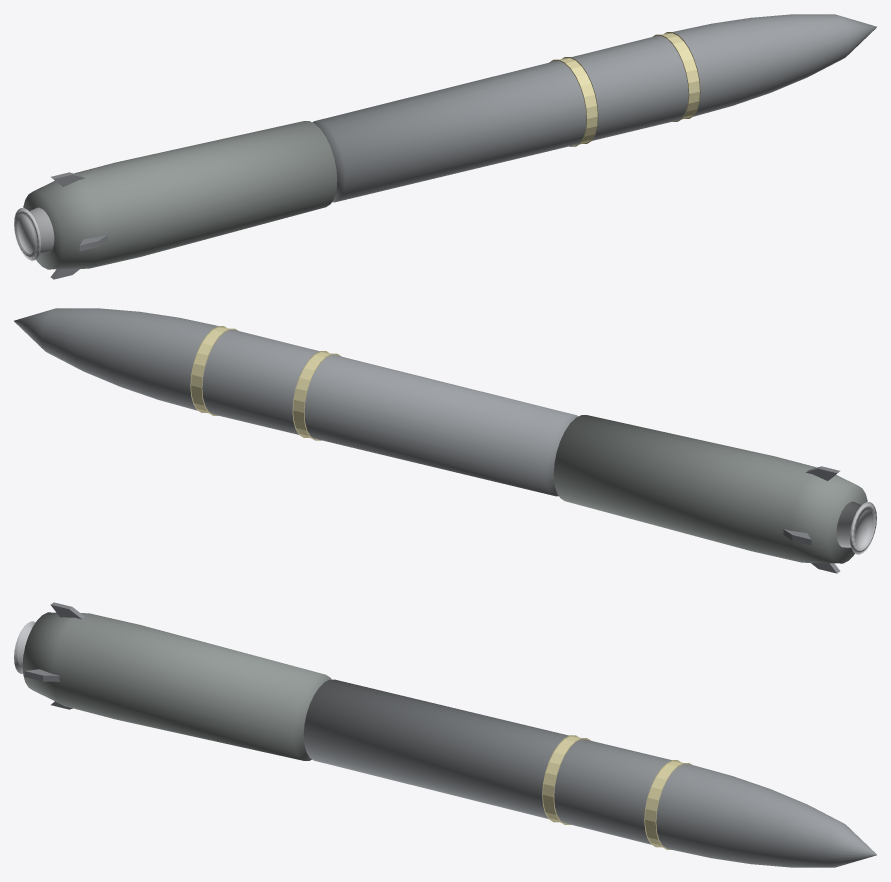
File: RU_ASW_Vyuga_LOD1.fbx
The picture shows the model from 3 angles, top to bottom: view 1: azimuth 30°, elevation 25°; view 2: azimuth 150°, elevation 25°; view 3: azimuth 330°, elevation 25°; orthographic projection.
Visible parts, largest first — view 1: WPN_RU_ASW_Vyuga_LOD1_Body, WPN_RU_ASW_Vyuga_LOD1_Tail, WPN_RU_ASW_Vyuga_LOD1_Marking, WPN_RU_ASW_Vyuga_LOD1_Propulsor, WPN_RU_ASW_Vyuga_LOD1_Fins; view 2: WPN_RU_ASW_Vyuga_LOD1_Body, WPN_RU_ASW_Vyuga_LOD1_Tail, WPN_RU_ASW_Vyuga_LOD1_Marking, WPN_RU_ASW_Vyuga_LOD1_Propulsor, WPN_RU_ASW_Vyuga_LOD1_Fins; view 3: WPN_RU_ASW_Vyuga_LOD1_Body, WPN_RU_ASW_Vyuga_LOD1_Tail, WPN_RU_ASW_Vyuga_LOD1_Marking, WPN_RU_ASW_Vyuga_LOD1_Fins.
Boxes of the visible parts, box(x1,y1,x2,y2) form: WPN_RU_ASW_Vyuga_LOD1_Body: box(312, 14, 876, 202); WPN_RU_ASW_Vyuga_LOD1_Tail: box(23, 121, 337, 269); WPN_RU_ASW_Vyuga_LOD1_Marking: box(549, 32, 700, 146); WPN_RU_ASW_Vyuga_LOD1_Propulsor: box(14, 207, 54, 260); WPN_RU_ASW_Vyuga_LOD1_Fins: box(50, 172, 107, 279); WPN_RU_ASW_Vyuga_LOD1_Body: box(14, 308, 578, 496); WPN_RU_ASW_Vyuga_LOD1_Tail: box(553, 415, 867, 563); WPN_RU_ASW_Vyuga_LOD1_Marking: box(190, 326, 341, 440); WPN_RU_ASW_Vyuga_LOD1_Propulsor: box(836, 501, 876, 554); WPN_RU_ASW_Vyuga_LOD1_Fins: box(783, 466, 840, 573); WPN_RU_ASW_Vyuga_LOD1_Body: box(303, 679, 876, 867); WPN_RU_ASW_Vyuga_LOD1_Tail: box(22, 612, 331, 760); WPN_RU_ASW_Vyuga_LOD1_Marking: box(542, 735, 691, 849); WPN_RU_ASW_Vyuga_LOD1_Fins: box(24, 602, 84, 709).
Size of the model in its own units: 6 by 0.6761 by 0.6761.
